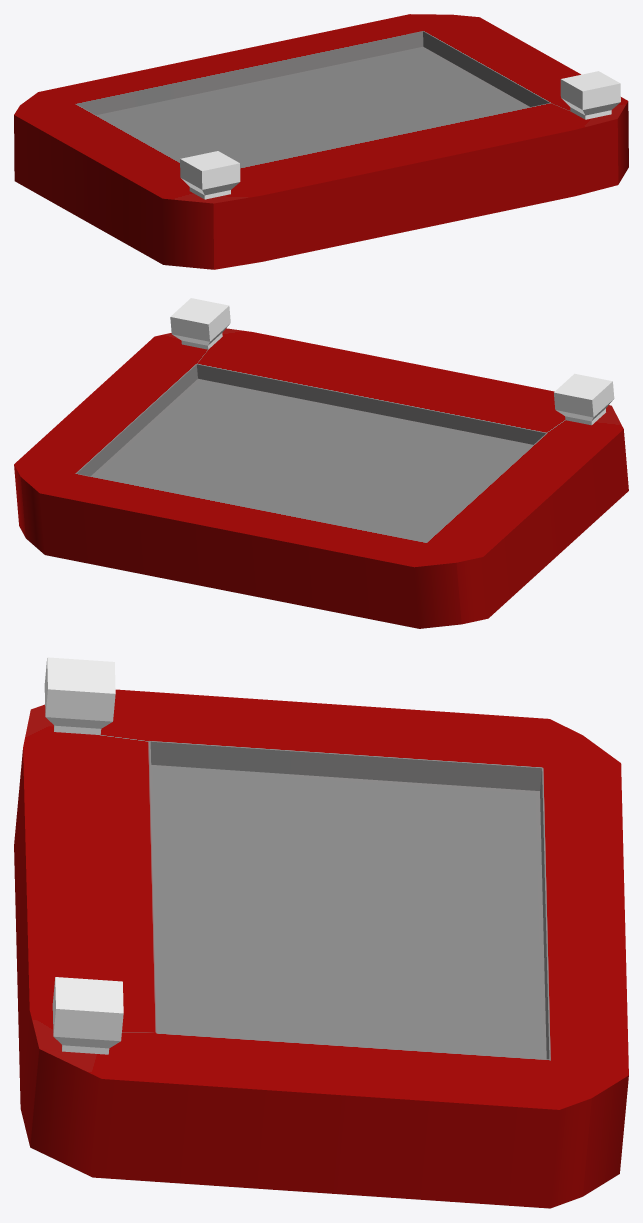
Rendered from etchAsketch.fbx.
The picture shows the model from 3 angles, top to bottom: view 1: azimuth 30°, elevation 25°; view 2: azimuth 150°, elevation 25°; view 3: azimuth 270°, elevation 25°; orthographic projection. The views are drawn at different scales.
Visible parts, largest first — view 1: pCube12; view 2: pCube12; view 3: pCube12.
Part boxes in pixels (bbox=[...]): pCube12: bbox=[14, 14, 628, 269]; pCube12: bbox=[14, 298, 628, 628]; pCube12: bbox=[14, 657, 628, 1208].
Bounding box in the file's own units: 2.04 × 0.562 × 1.45.
Materials: 1 (1 with a texture image).
